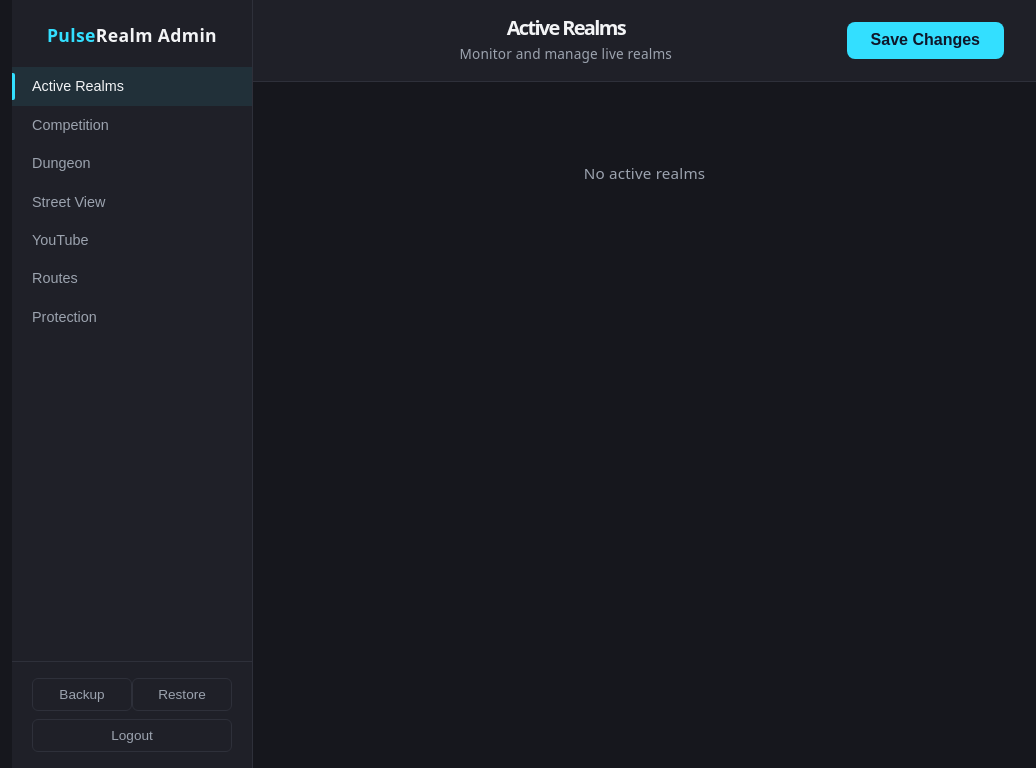
Test case: AdminDashboard › shows 'Saved' message on successful save
Step 1. Click the button "Save Changes" → (925, 40), box [847,22,1004,59]
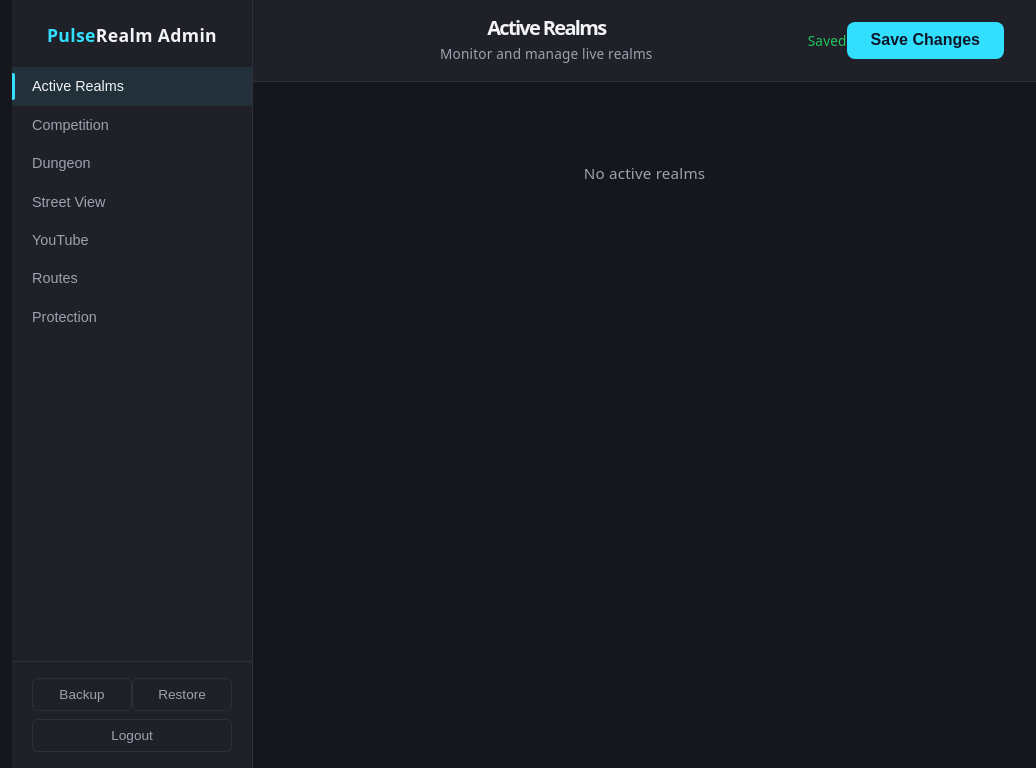
Expected: the text "Saved" is shown, [808,29,847,52]
